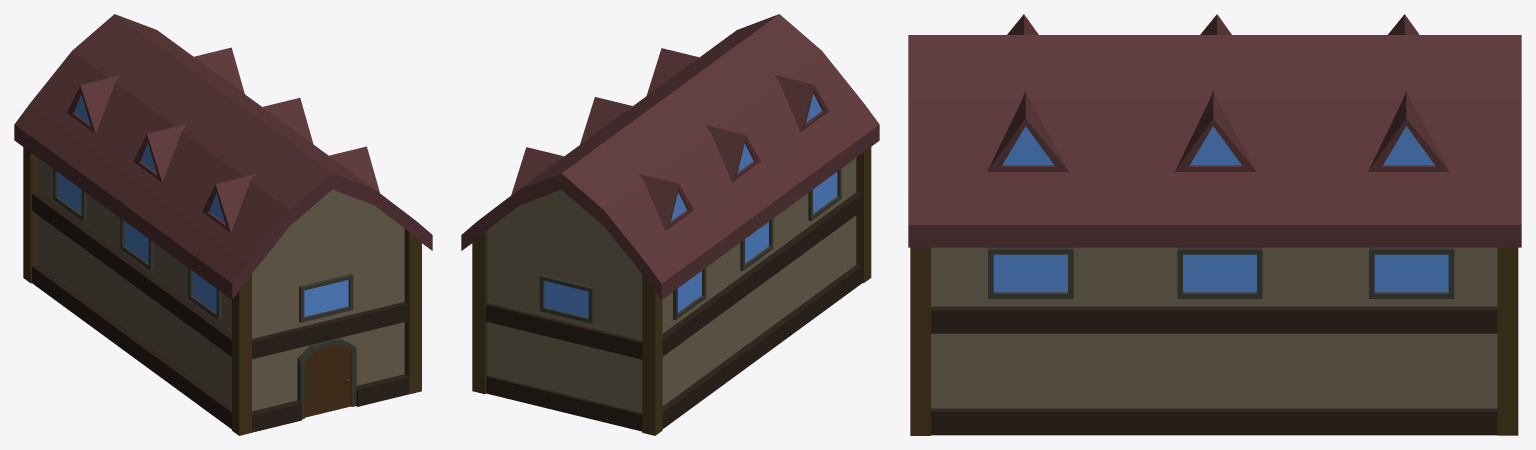
File: CajaCasa 2.5.fbx
The picture shows the model from 3 angles, left to right: view 1: azimuth 30°, elevation 25°; view 2: azimuth 150°, elevation 25°; view 3: azimuth 270°, elevation 25°; orthographic projection. The views are drawn at different scales.
Parts seen in each view (by area): view 1: Base; view 2: Base; view 3: Base.
Part boxes in pixels (<box>): Base: <box>14,14,432,435</box>; Base: <box>461,14,879,435</box>; Base: <box>908,14,1521,435</box>.
Bounding box in the file's own units: 760 × 874 × 1432.
